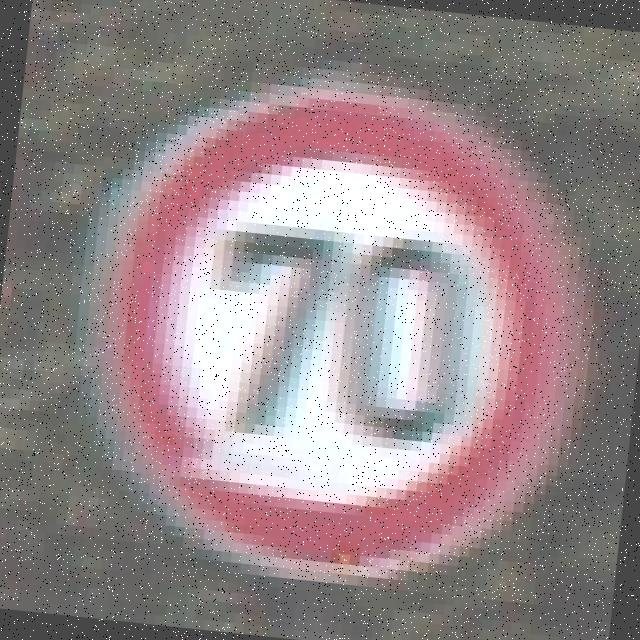Ograniczenie predkosci do 70: (64, 69, 602, 606)
